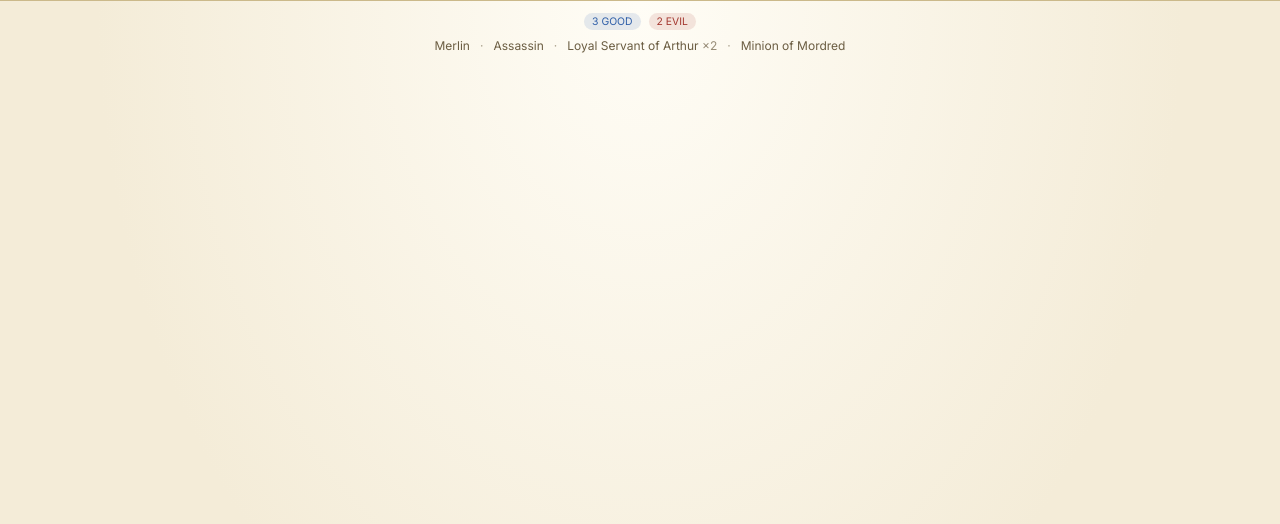
Test: CharacterFooter › shows the description on click, and hides it again on a second click
What coordinates should you click on to do the following:
click the button "Merlin"
I would click on:
 (452, 46)
Its box is 430,36 -> 474,55.
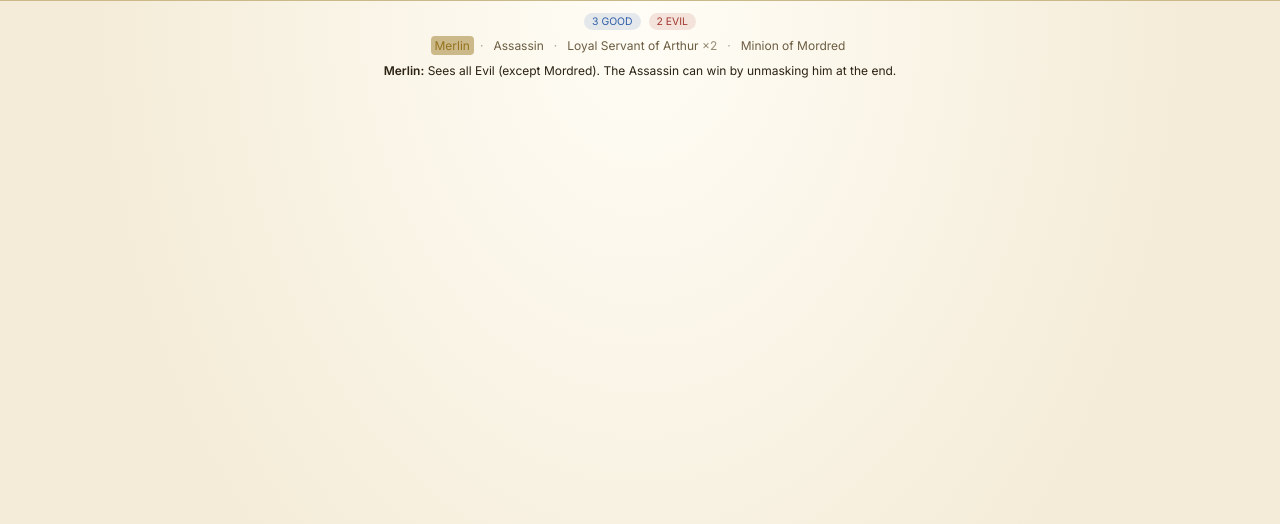
Now the text "Sees all Evil" is shown, box 428,63 -> 896,78
Now the button "Merlin" is expanded
What coordinates should you click on to do the following:
click the button "Merlin"
I would click on:
 (452, 46)
Its box is 430,36 -> 474,55.
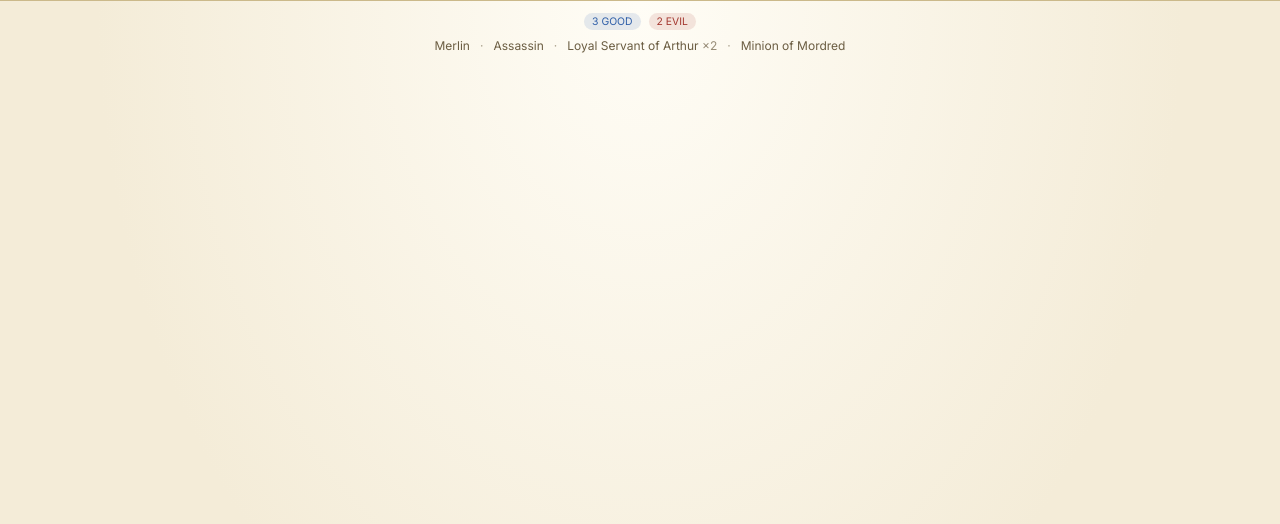
Now the text "Sees all Evil" is gone
Now the button "Merlin" is collapsed, box 430,36 -> 474,55
